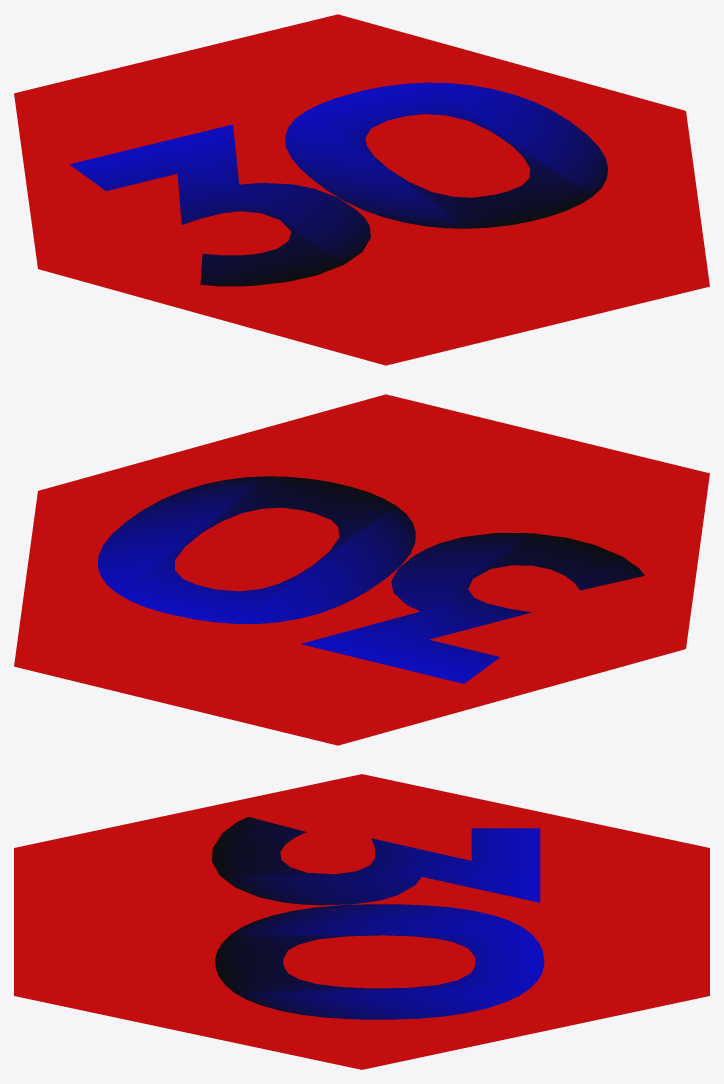
The model's file is SM_Number_30.fbx.
The picture shows the model from 3 angles, top to bottom: view 1: azimuth 30°, elevation 25°; view 2: azimuth 150°, elevation 25°; view 3: azimuth 270°, elevation 25°; orthographic projection. The views are drawn at different scales.
Visible parts, largest first — view 1: FBX_OUT; view 2: FBX_OUT; view 3: FBX_OUT.
Boxes of the visible parts, <box> form: FBX_OUT: <box>14,14,709,365</box>; FBX_OUT: <box>14,394,709,745</box>; FBX_OUT: <box>14,774,709,1069</box>.
Size of the model in its own units: 50 by 0.2917 by 49.71.
